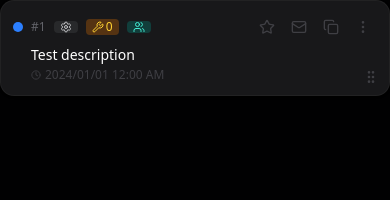
Test: TaskList › Overflow menu › shows Cancel in overflow menu for in_progress tasks
Click the button titled "More actions" at (363, 27), box [349, 13, 377, 41]
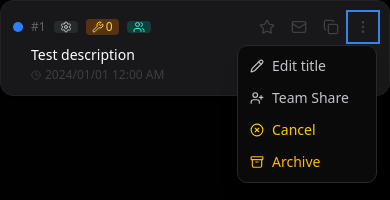
Check: the button "Cancel" is shown, box [238, 114, 376, 146]
